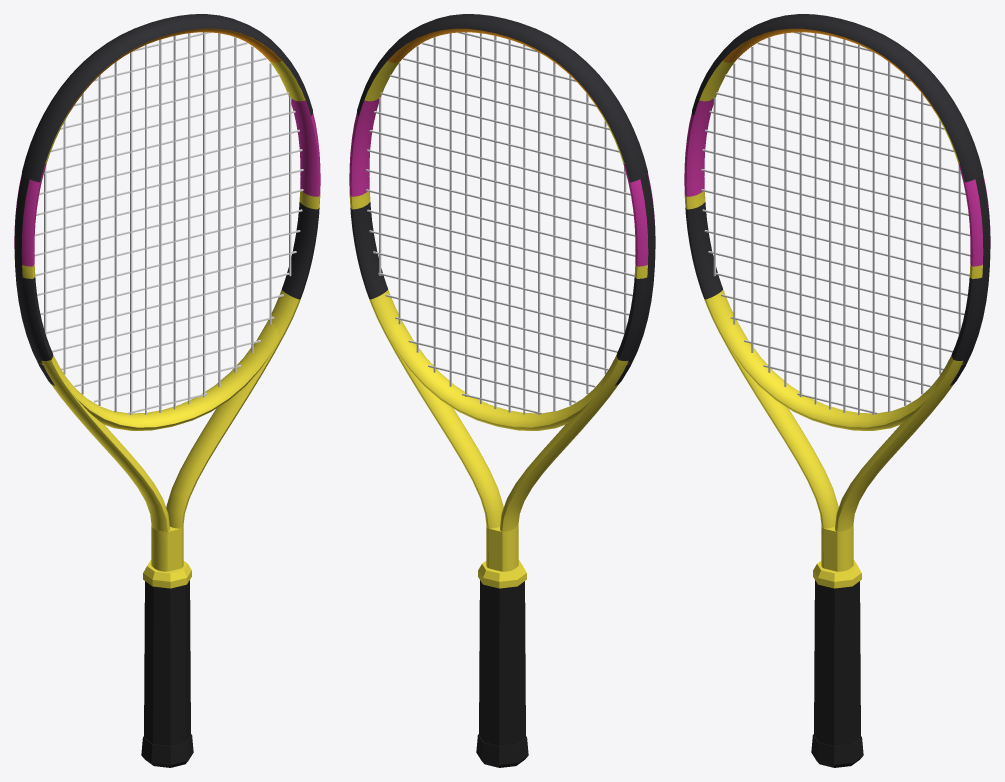
File: babolat-rafa-nadal-junior-26-2021gen.glb
3 renders of one model, left to right at view 1: azimuth 30°, elevation 25°; view 2: azimuth 150°, elevation 25°; view 3: azimuth 330°, elevation 25°, orthographic.
Visible parts, largest first — view 1: frame, strings_mains, strings_crosses, grip, bumper, grommets, butt_cap, collar; view 2: frame, strings_mains, strings_crosses, grip, bumper, grommets, butt_cap, collar; view 3: frame, strings_mains, strings_crosses, grip, bumper, grommets, butt_cap, collar.
Boxes of the visible parts, <box> form: frame: <box>14,28,320,571</box>; strings_mains: <box>44,32,291,414</box>; strings_crosses: <box>34,32,303,414</box>; grip: <box>144,580,190,745</box>; bumper: <box>22,14,312,182</box>; grommets: <box>14,174,54,385</box>; butt_cap: <box>141,734,193,767</box>; collar: <box>143,560,191,588</box>; frame: <box>349,28,655,571</box>; strings_mains: <box>379,32,626,414</box>; strings_crosses: <box>366,32,635,414</box>; grip: <box>479,580,525,745</box>; bumper: <box>357,14,647,182</box>; grommets: <box>615,174,655,385</box>; butt_cap: <box>476,734,528,767</box>; collar: <box>478,560,526,588</box>; frame: <box>684,28,990,571</box>; strings_mains: <box>713,32,960,414</box>; strings_crosses: <box>701,32,970,414</box>; grip: <box>814,580,860,745</box>; bumper: <box>692,14,982,182</box>; grommets: <box>950,174,990,385</box>; butt_cap: <box>811,734,863,767</box>; collar: <box>813,560,861,588</box>.
Size of the model in its own units: 0.2813 by 0.6607 by 0.0396.
